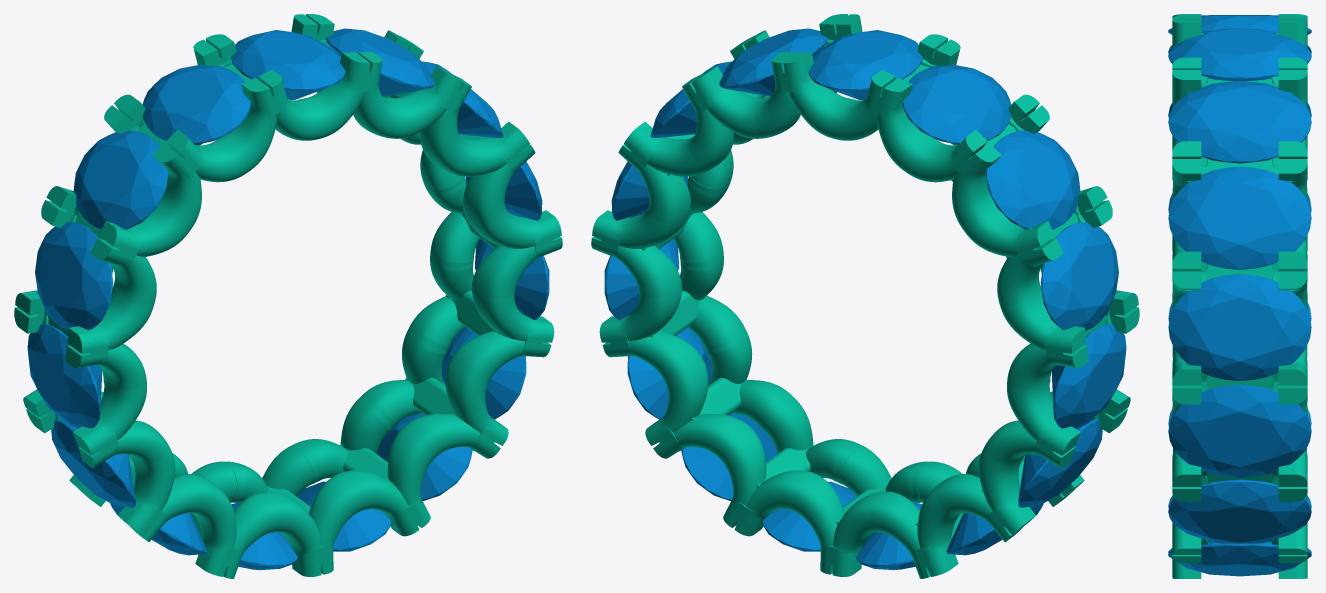
The picture shows the model from 3 angles, left to right: view 1: azimuth 30°, elevation 25°; view 2: azimuth 150°, elevation 25°; view 3: azimuth 270°, elevation 25°; orthographic projection.
Parts seen in each view (by area): view 1: 6-4.50MM(front).3dm, Diamond_Oval (×15); view 2: 6-4.50MM(front).3dm, Diamond_Oval (×15); view 3: Diamond_Oval (×8), 6-4.50MM(front).3dm.
Boxes of the visible parts, left/top/right/bottom form: 6-4.50MM(front).3dm: left=14, top=14, right=562, bottom=578; Diamond_Oval (×15): left=27, top=28, right=549, bottom=570; 6-4.50MM(front).3dm: left=591, top=14, right=1139, bottom=578; Diamond_Oval (×15): left=604, top=28, right=1126, bottom=570; Diamond_Oval (×8): left=1168, top=15, right=1311, bottom=576; 6-4.50MM(front).3dm: left=1172, top=14, right=1307, bottom=578.
Size of the model in its own units: 2.79 by 2.78 by 0.7041.
